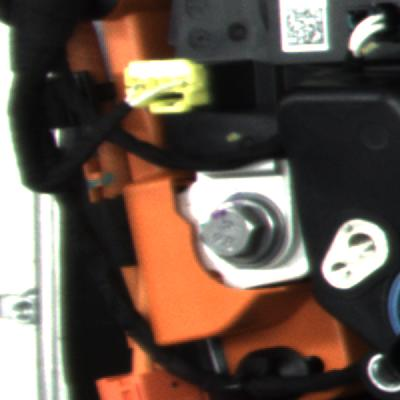nut_b: (198, 188, 300, 279)
